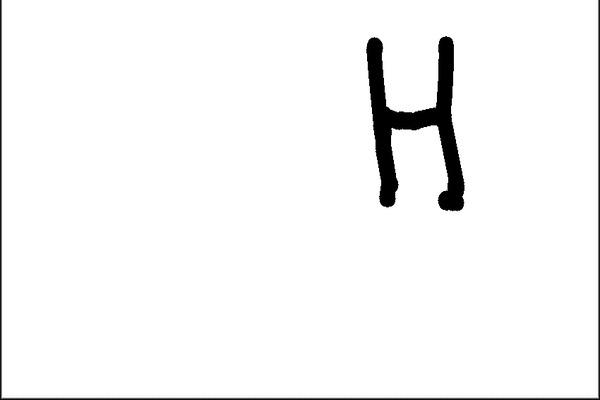H: (350, 30, 475, 213)
